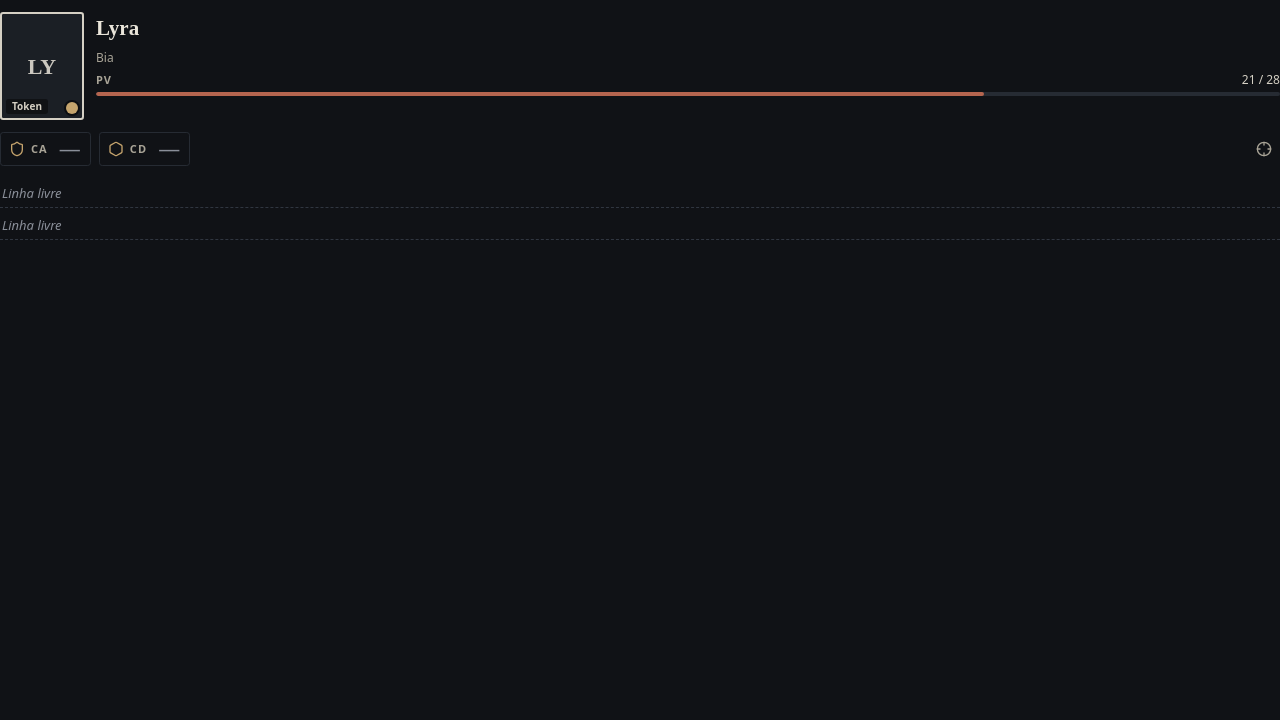
Test: BarQuickEdit › Ana, the master, opens it on the Lyra of Bia
Double-click the button with aria-label "Editar PV de Lyra" at (1261, 80), box [96,72,1279,96]
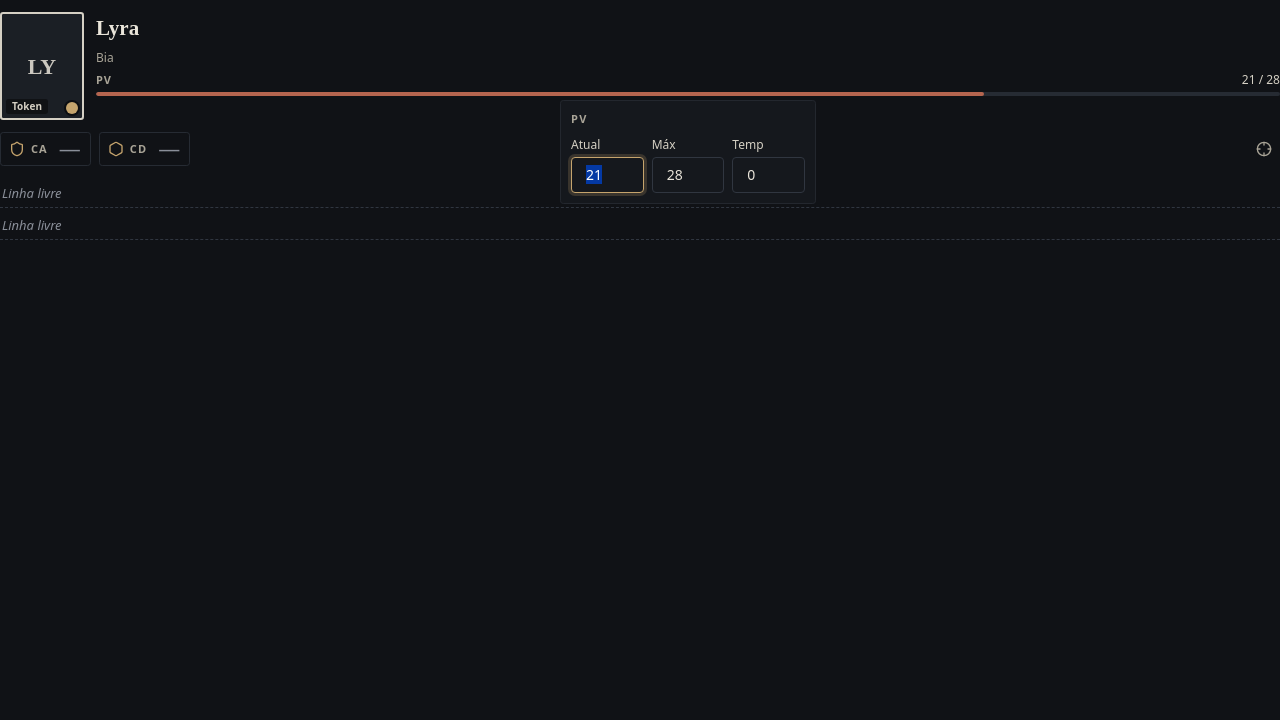
Expected: the dialog "PV" is shown, [560,100,816,204]
